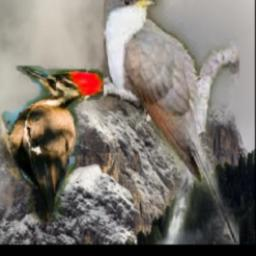Cuckoo: (105, 0, 240, 245)
Woodpecker: (0, 66, 105, 222)
